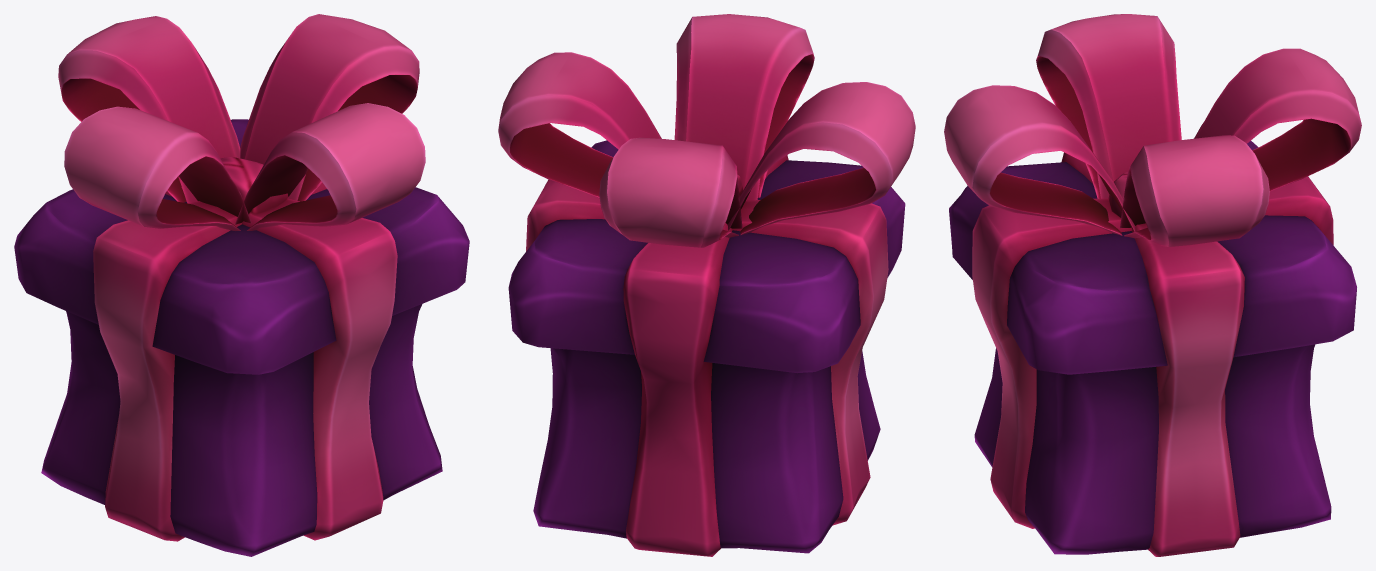
File: present_03_LOD1.fbx
The picture shows the model from 3 angles, left to right: view 1: azimuth 30°, elevation 25°; view 2: azimuth 150°, elevation 25°; view 3: azimuth 270°, elevation 25°; orthographic projection.
Parts seen in each view (by area): view 1: present_03; view 2: present_03; view 3: present_03.
Part boxes in pixels (box(x1,y1,x2,y2)): present_03: box(14, 14, 469, 556); present_03: box(498, 14, 915, 556); present_03: box(944, 14, 1361, 556).
Size of the model in its own units: 53.55 by 58.94 by 53.55.
Materials: 1 (1 with a texture image).
